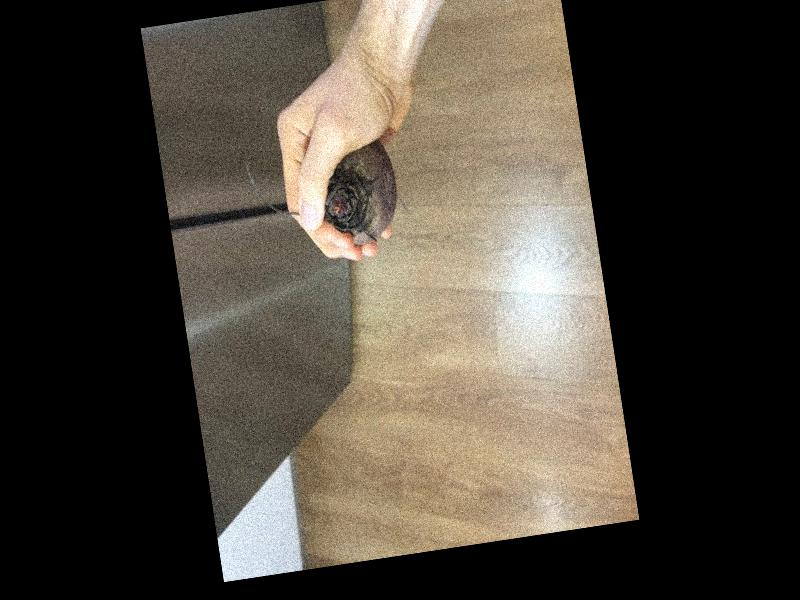Beet: (243, 137, 404, 261)
